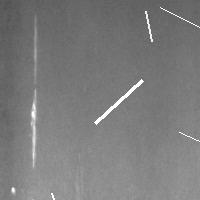scratches: (90, 75, 147, 128), (26, 12, 43, 171), (155, 2, 200, 54), (174, 127, 200, 157), (141, 6, 157, 46), (46, 188, 85, 200), (8, 184, 17, 196)
